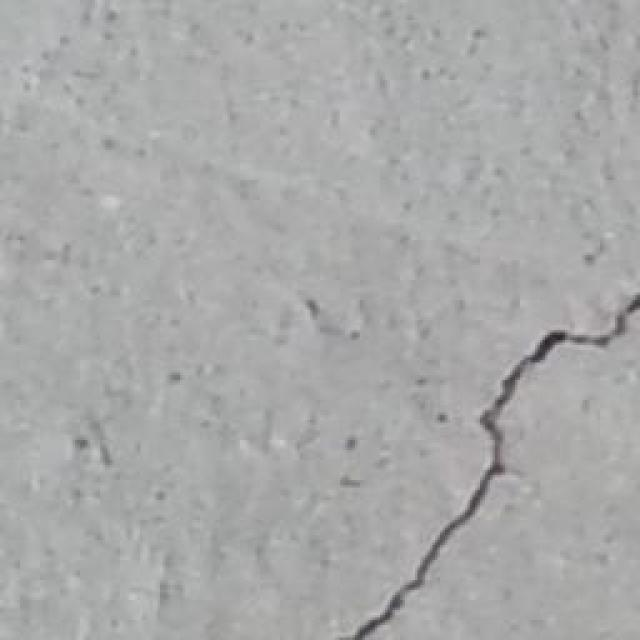concrete-crack: (333, 284, 640, 640)
